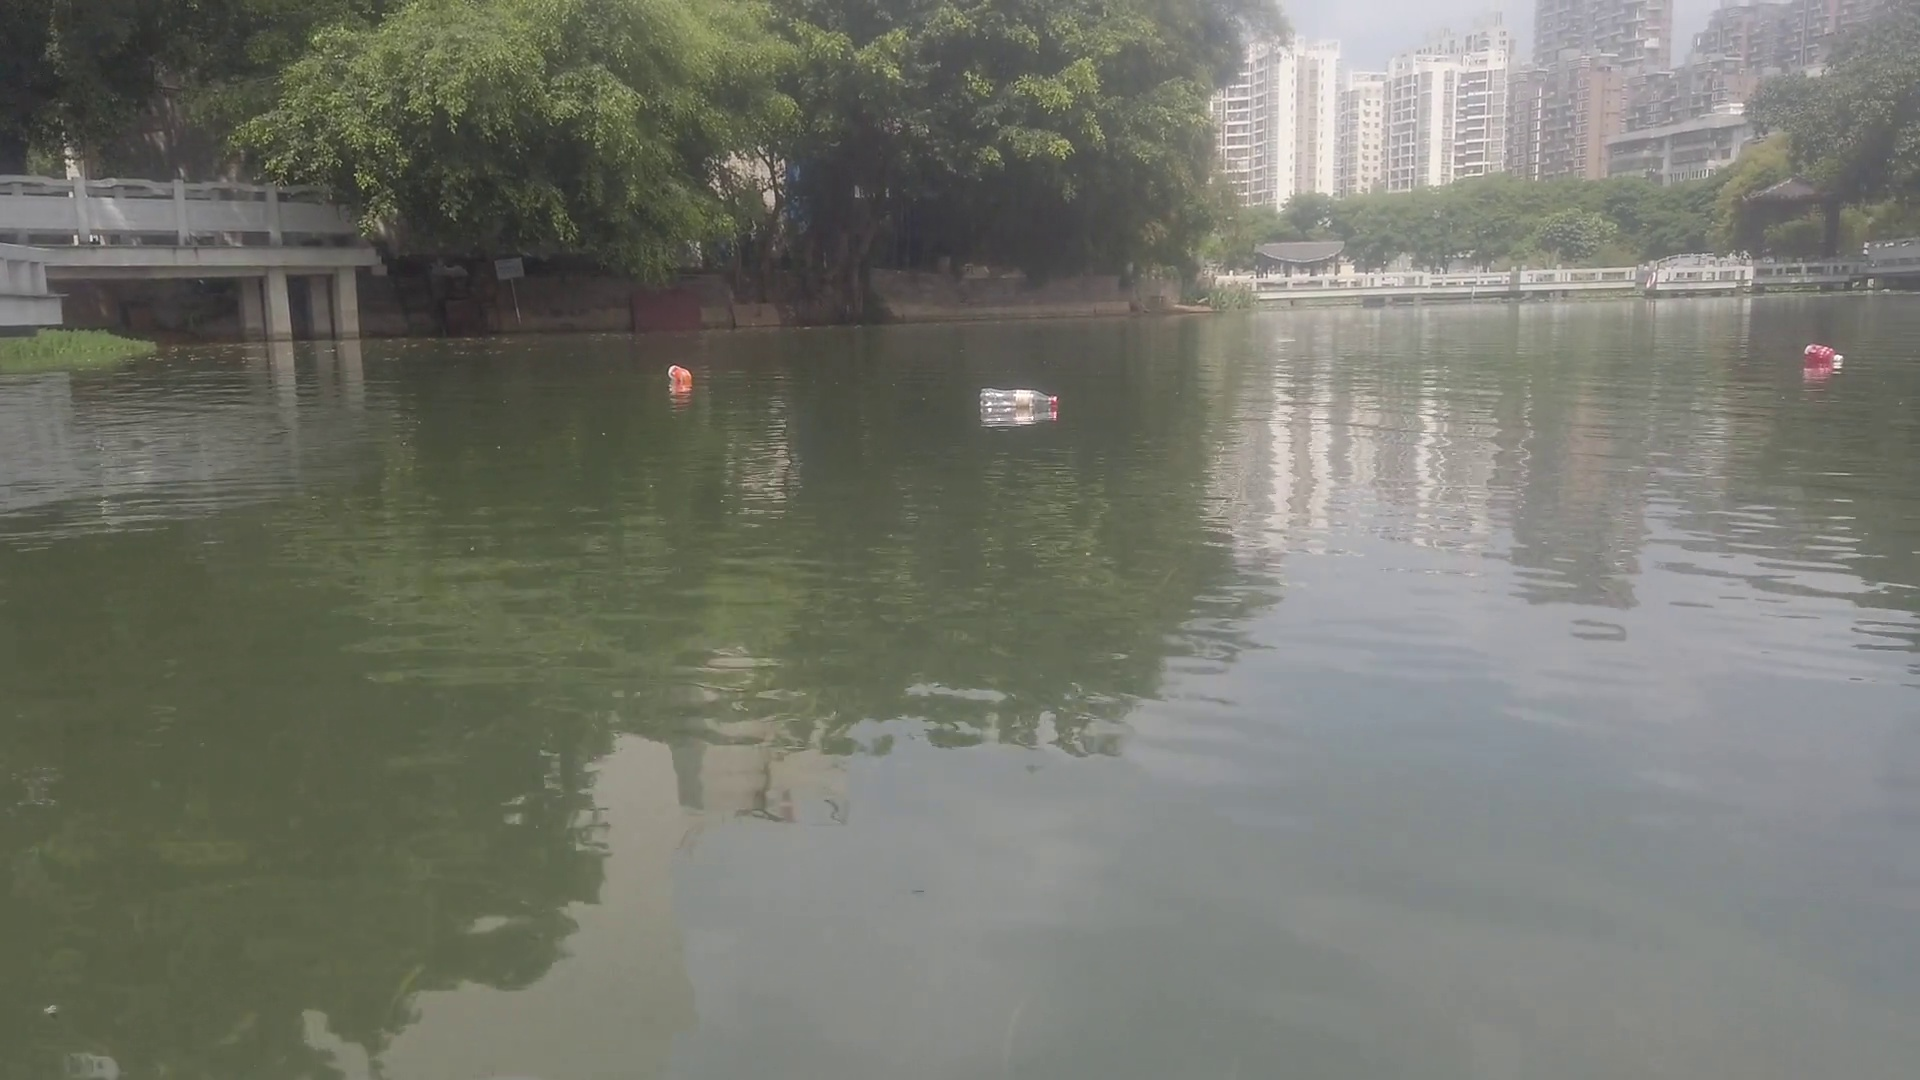bottle: (978, 388, 1059, 411), (1805, 340, 1846, 364), (667, 364, 688, 382)
